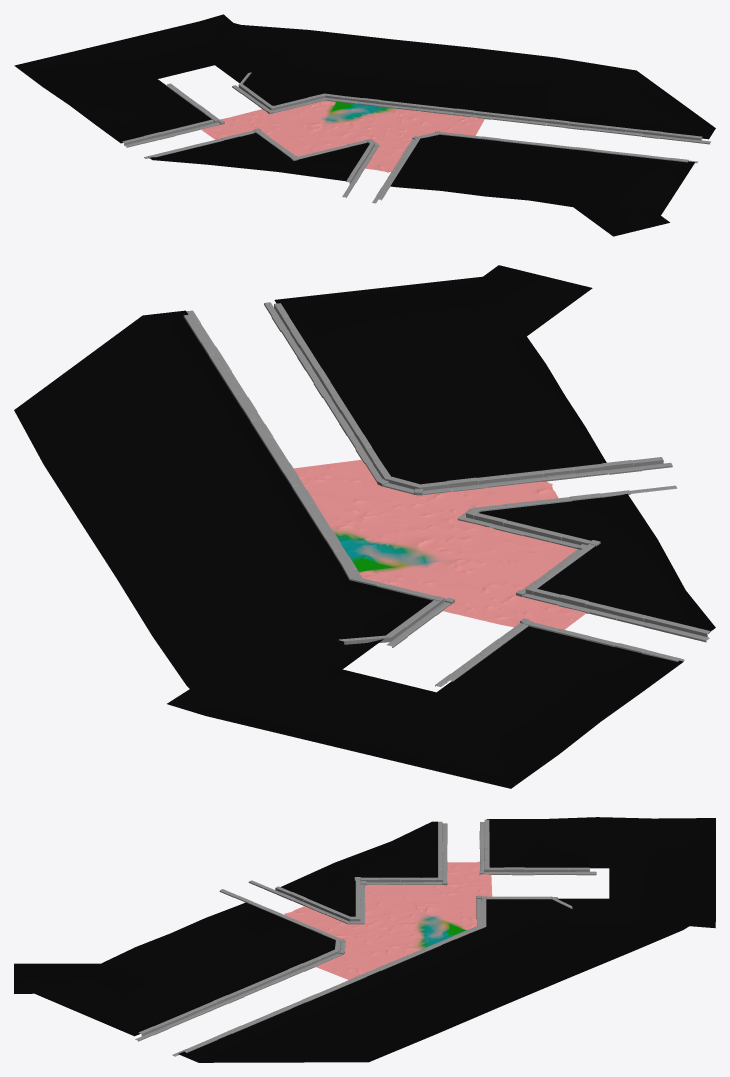
File: SM_ENV_KNVLLG03_Ground_C.gltf
The picture shows the model from 3 angles, top to bottom: view 1: azimuth 30°, elevation 25°; view 2: azimuth 150°, elevation 25°; view 3: azimuth 270°, elevation 25°; orthographic projection. The views are drawn at different scales.
Visible parts, largest first — view 1: SM_ENV_KNVLLG03_Ground_C; view 2: SM_ENV_KNVLLG03_Ground_C; view 3: SM_ENV_KNVLLG03_Ground_C.
Part boxes in pixels (bbox=[...]): SM_ENV_KNVLLG03_Ground_C: bbox=[14, 14, 715, 236]; SM_ENV_KNVLLG03_Ground_C: bbox=[14, 265, 715, 788]; SM_ENV_KNVLLG03_Ground_C: bbox=[14, 817, 715, 1062].
Size of the model in its own units: 55.69 by 0.6995 by 67.64.
